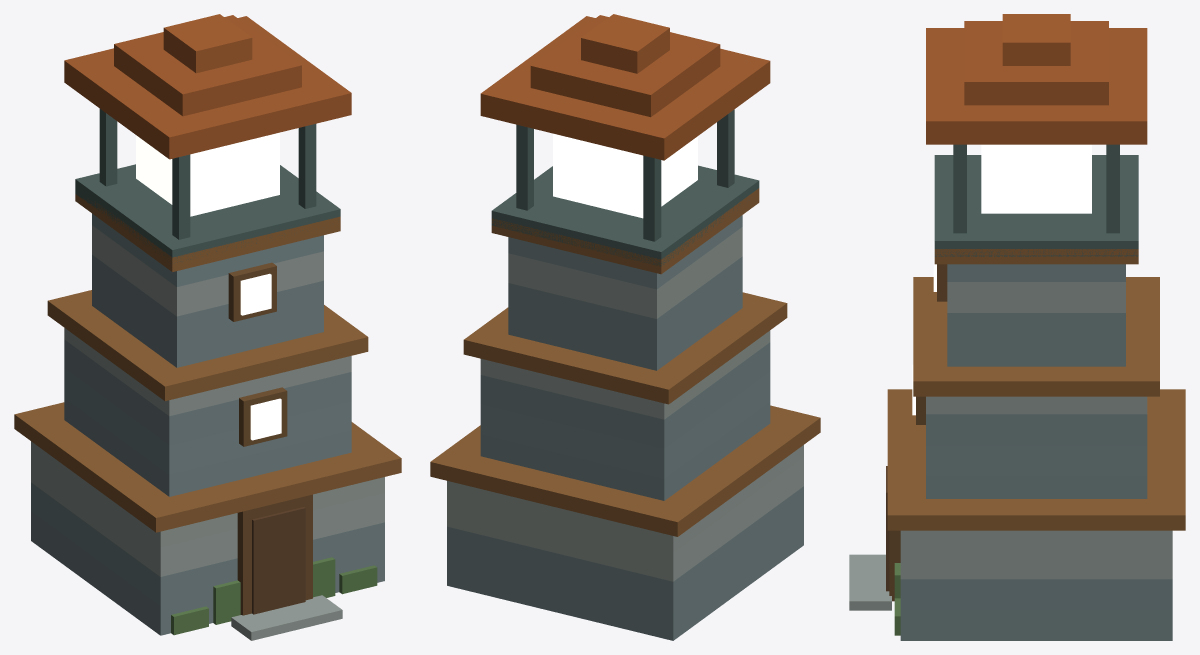
Rendered from lighthouse_purified.glb.
3 renders of one model, left to right at view 1: azimuth 30°, elevation 25°; view 2: azimuth 150°, elevation 25°; view 3: azimuth 270°, elevation 25°, orthographic. The views are drawn at different scales.
Parts seen in each view (by area): view 1: lighthouse_blocks; view 2: lighthouse_blocks; view 3: lighthouse_blocks.
Part boxes in pixels (x1,y1,x2,y2): lighthouse_blocks: [14, 14, 401, 640]; lighthouse_blocks: [430, 14, 820, 640]; lighthouse_blocks: [849, 14, 1185, 640].
Bounding box in the file's own units: 3.5 × 7.25 × 3.95.
